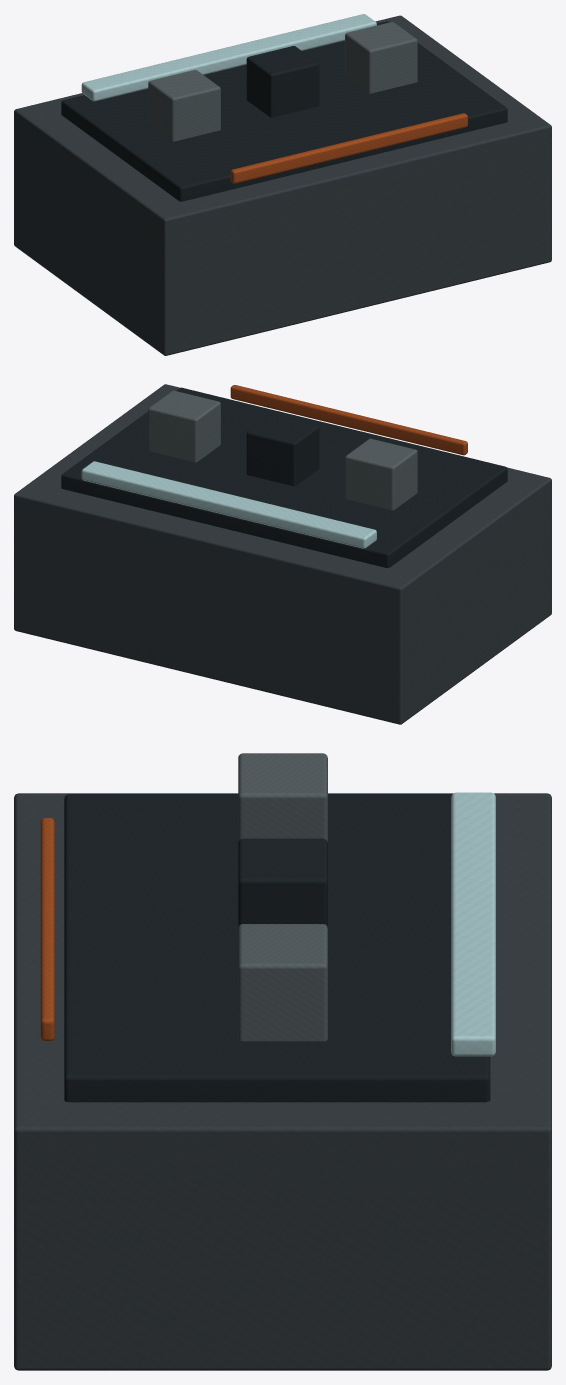
The model's file is FloorCableManifold.fbx.
3 renders of one model, top to bottom at view 1: azimuth 30°, elevation 25°; view 2: azimuth 150°, elevation 25°; view 3: azimuth 270°, elevation 25°, orthographic. The views are drawn at different scales.
Visible parts, largest first — view 1: FloorCableManifold_Mesh; view 2: FloorCableManifold_Mesh; view 3: FloorCableManifold_Mesh.
Part boxes in pixels (box(x1,y1,x2,y2)): FloorCableManifold_Mesh: box(14, 14, 551, 355); FloorCableManifold_Mesh: box(14, 384, 551, 724); FloorCableManifold_Mesh: box(14, 753, 551, 1370).
Size of the model in its own units: 142 by 68 by 96.
